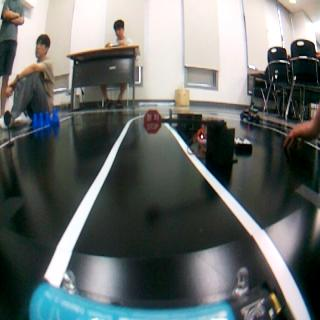stop: (143, 113, 162, 133)
